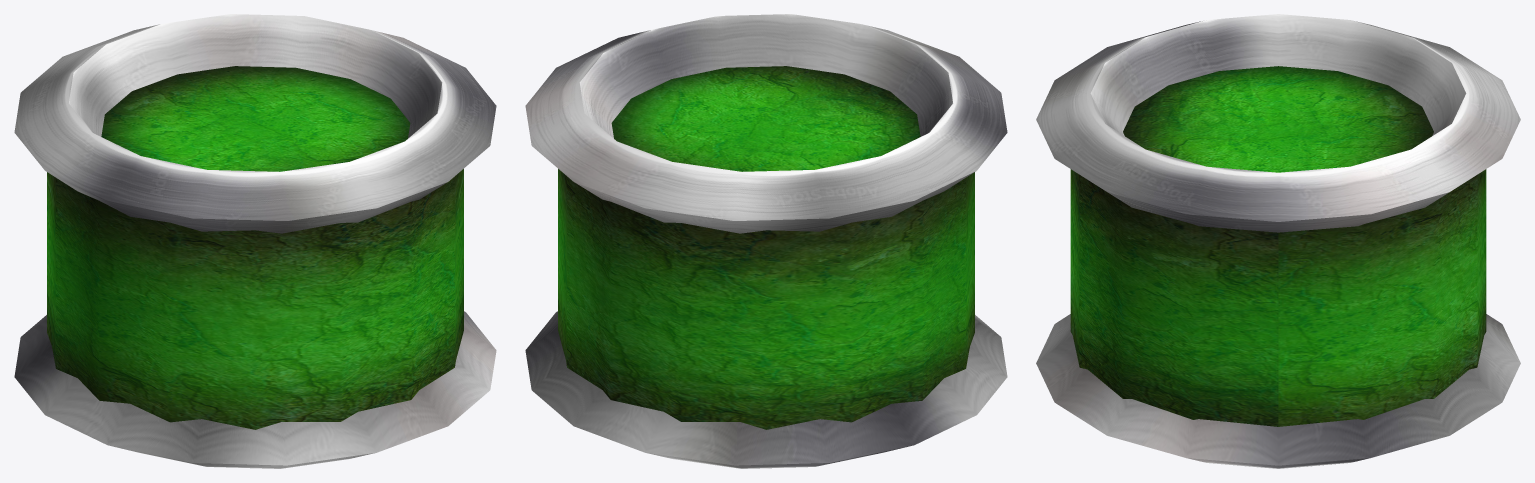
The model's file is static.fbx.
3 views of the same model, side by side, from view 1: azimuth 30°, elevation 25°; view 2: azimuth 150°, elevation 25°; view 3: azimuth 270°, elevation 25° (orthographic).
Parts seen in each view (by area): view 1: Cylinder, Disc, Disc_2; view 2: Cylinder, Disc, Disc_2; view 3: Cylinder, Disc, Disc_2.
Boxes of the visible parts, x1,y1,x2,y2 form: Cylinder: (47, 66, 463, 429); Disc: (14, 14, 496, 233); Disc_2: (14, 311, 496, 468); Cylinder: (558, 66, 974, 429); Disc: (525, 14, 1007, 233); Disc_2: (525, 311, 1007, 468); Cylinder: (1070, 66, 1486, 426); Disc: (1036, 14, 1520, 232); Disc_2: (1036, 314, 1520, 468).
Size of the model in its own units: 81.66 by 55.05 by 81.66.
Materials: 3 (3 with a texture image).
